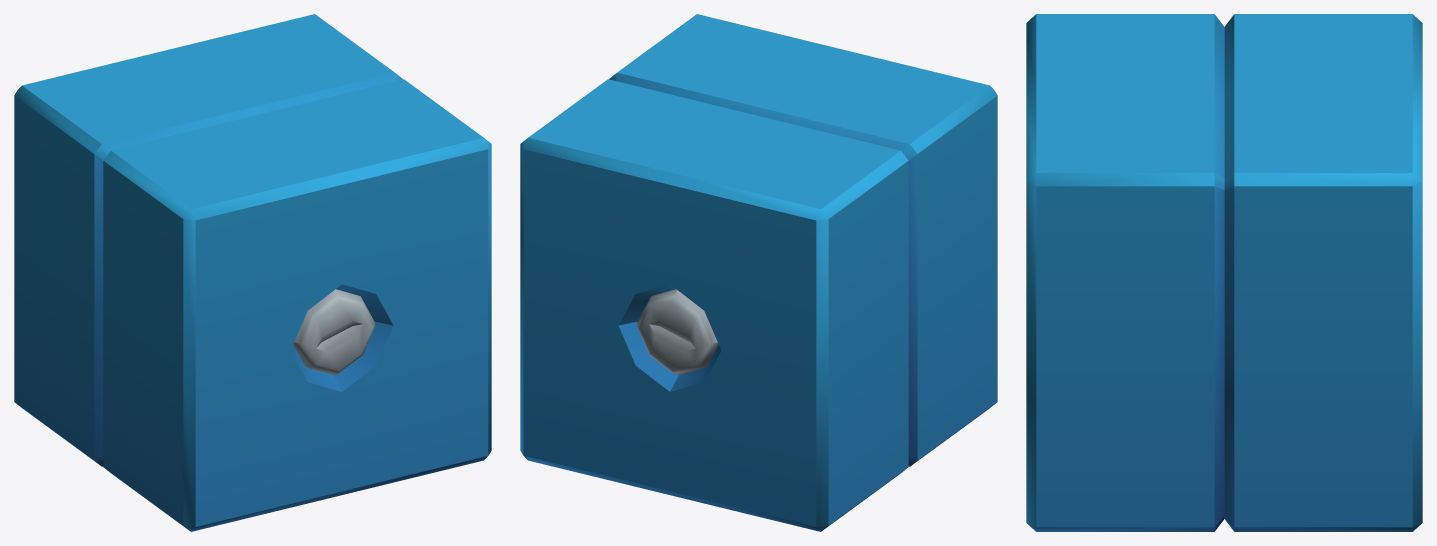
Rendered from platform-decorative-2x2x2-blue.glb.
3 views of the same model, side by side, from view 1: azimuth 30°, elevation 25°; view 2: azimuth 150°, elevation 25°; view 3: azimuth 270°, elevation 25° (orthographic). The views are drawn at different scales.
Parts seen in each view (by area): view 1: platform_decorative_2x2x2_blue; view 2: platform_decorative_2x2x2_blue; view 3: platform_decorative_2x2x2_blue.
Part boxes in pixels (x1,y1,x2,y2): platform_decorative_2x2x2_blue: (14,14,491,531); platform_decorative_2x2x2_blue: (520,14,997,531); platform_decorative_2x2x2_blue: (1026,14,1422,531).
Bounding box in the file's own units: 2 × 2 × 2.
Materials: 1 (1 with a texture image).
